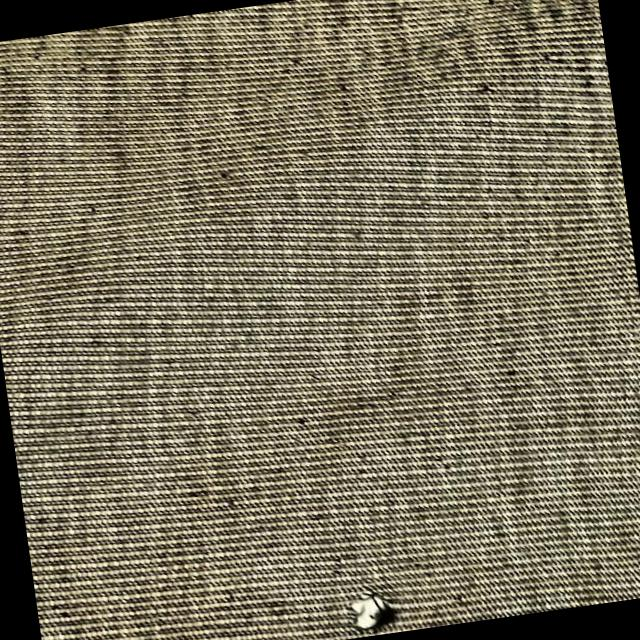cut: (335, 582, 404, 640)
